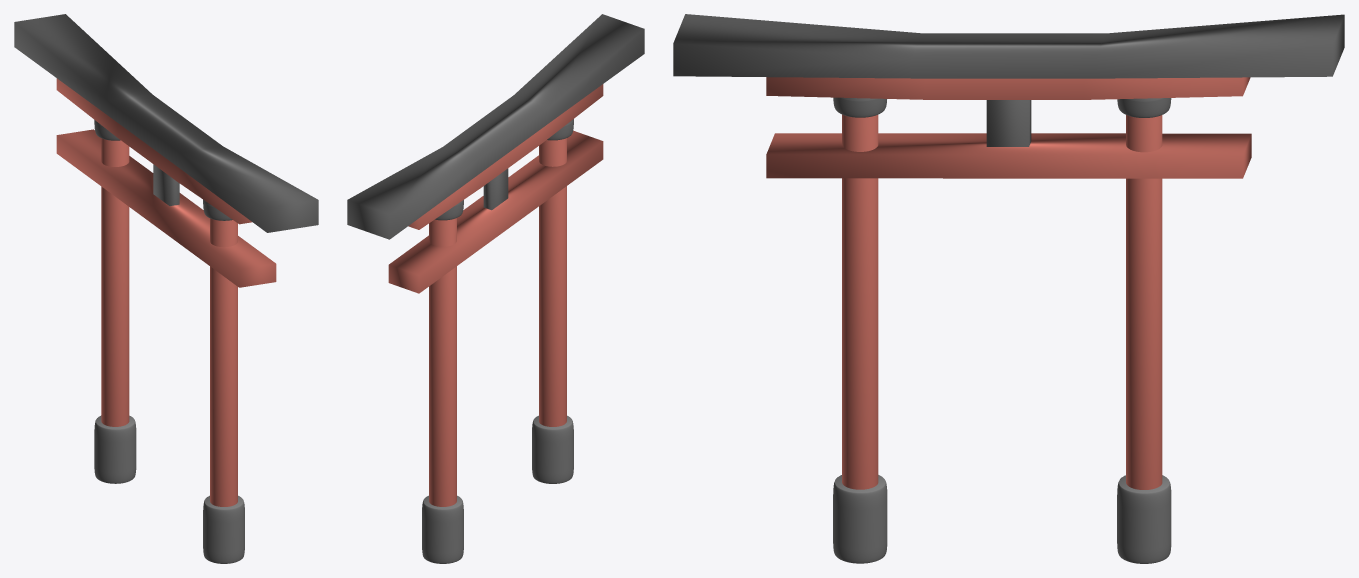
The model's file is Chinese Door.fbx.
3 views of the same model, side by side, from view 1: azimuth 30°, elevation 25°; view 2: azimuth 150°, elevation 25°; view 3: azimuth 270°, elevation 25° (orthographic). The views are drawn at different scales.
Visible parts, largest first — view 1: Cube.003; view 2: Cube.003; view 3: Cube.003.
Part boxes in pixels (x1,y1,x2,y2): Cube.003: [14, 14, 318, 563]; Cube.003: [347, 14, 644, 563]; Cube.003: [673, 14, 1344, 563].
Bounding box in the file's own units: 18.26 × 148 × 172.
